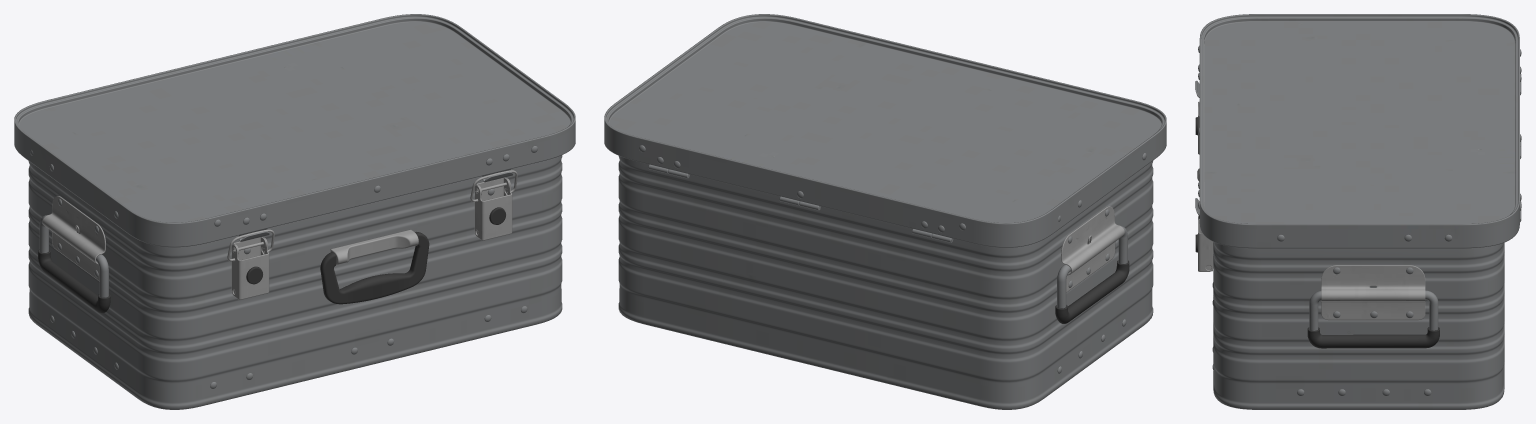
The model's file is case_a01.glb.
3 renders of one model, left to right at view 1: azimuth 30°, elevation 25°; view 2: azimuth 150°, elevation 25°; view 3: azimuth 270°, elevation 25°, orthographic.
Parts seen in each view (by area): view 1: sm_lid_a01_mesh_00, sm_body_a01_mesh_00.001, sm_handlfront_a01_mesh_00, sm_handleleft_a01_mesh_00; view 2: sm_body_a01_mesh_00.001, sm_lid_a01_mesh_00, sm_handleleft_a01_mesh_00; view 3: sm_lid_a01_mesh_00, sm_body_a01_mesh_00.001, sm_handleright_a01_mesh_00.
Part boxes in pixels (x1=…): sm_lid_a01_mesh_00: x1=14, y1=14, x2=575, y2=247; sm_body_a01_mesh_00.001: x1=28, y1=155, x2=562, y2=409; sm_handlfront_a01_mesh_00: x1=320, y1=232, x2=429, y2=304; sm_handleleft_a01_mesh_00: x1=38, y1=215, x2=110, y2=313; sm_body_a01_mesh_00.001: x1=618, y1=156, x2=1153, y2=409; sm_lid_a01_mesh_00: x1=604, y1=14, x2=1166, y2=247; sm_handleleft_a01_mesh_00: x1=1055, y1=226, x2=1129, y2=323; sm_lid_a01_mesh_00: x1=1195, y1=14, x2=1521, y2=248; sm_body_a01_mesh_00.001: x1=1195, y1=82, x2=1521, y2=409; sm_handleright_a01_mesh_00: x1=1307, y1=290, x2=1439, y2=348.
Size of the model in its own units: 0.5464 by 0.2294 by 0.3555.
Materials: 3 (2 with a texture image).
